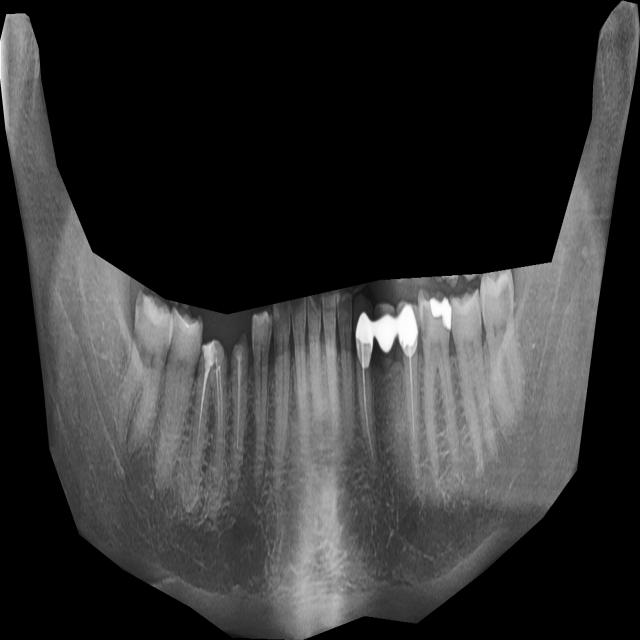mandibula: (0, 0, 640, 640)
